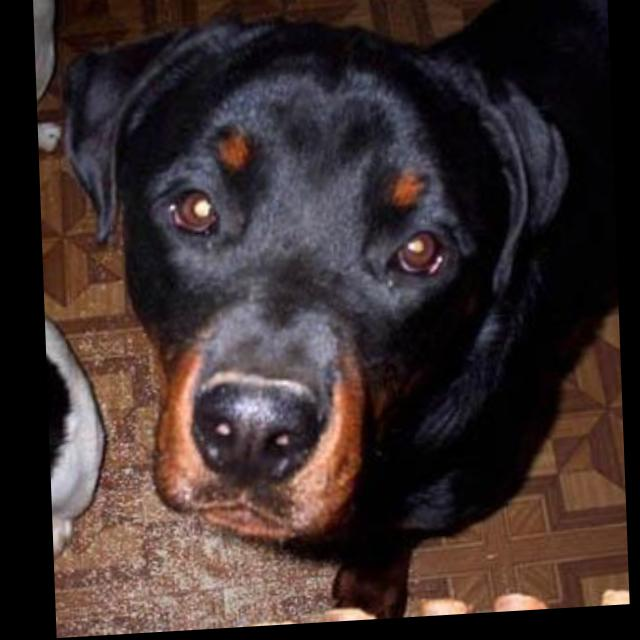rottweiler: (61, 1, 626, 638)
